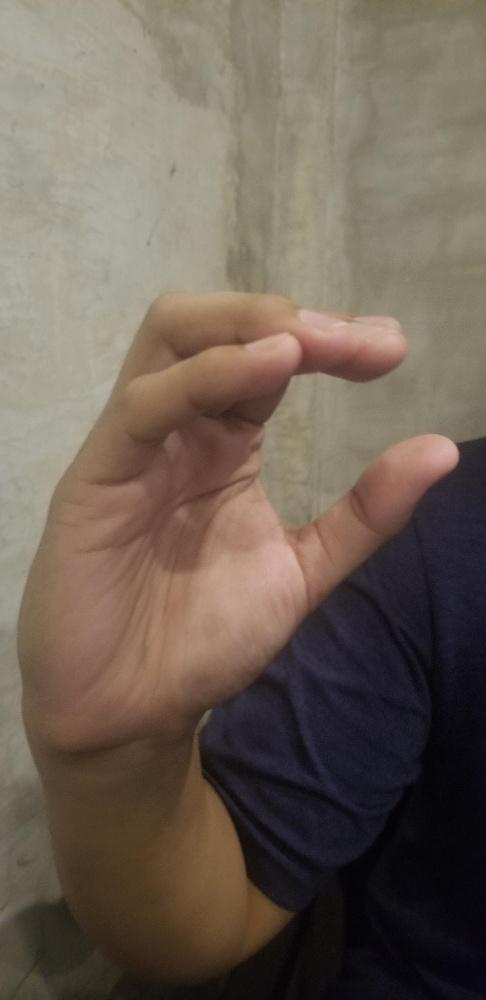c: (13, 283, 461, 756)
